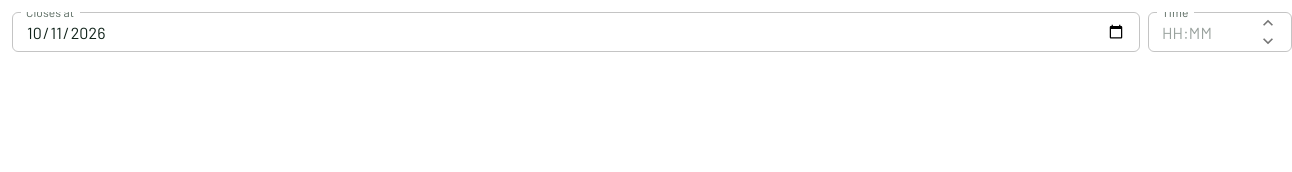
Test: DateTimeField › strips anything that is not a digit
In the field named "Closes at (time)": coordinates (1201, 32) [1148,12,1254,52], type "ab1:x3"
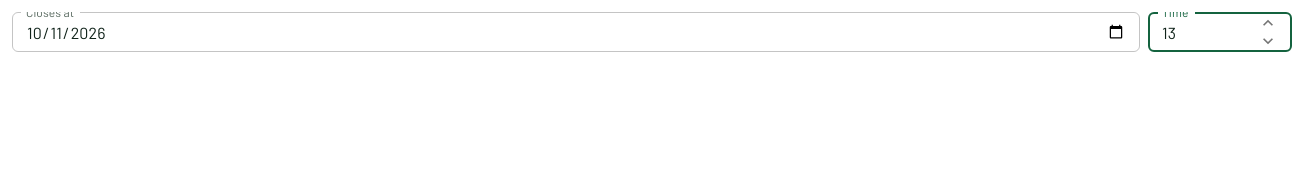
Check: the field named "Closes at (time)" holds "13", box [1148,12,1254,52]
